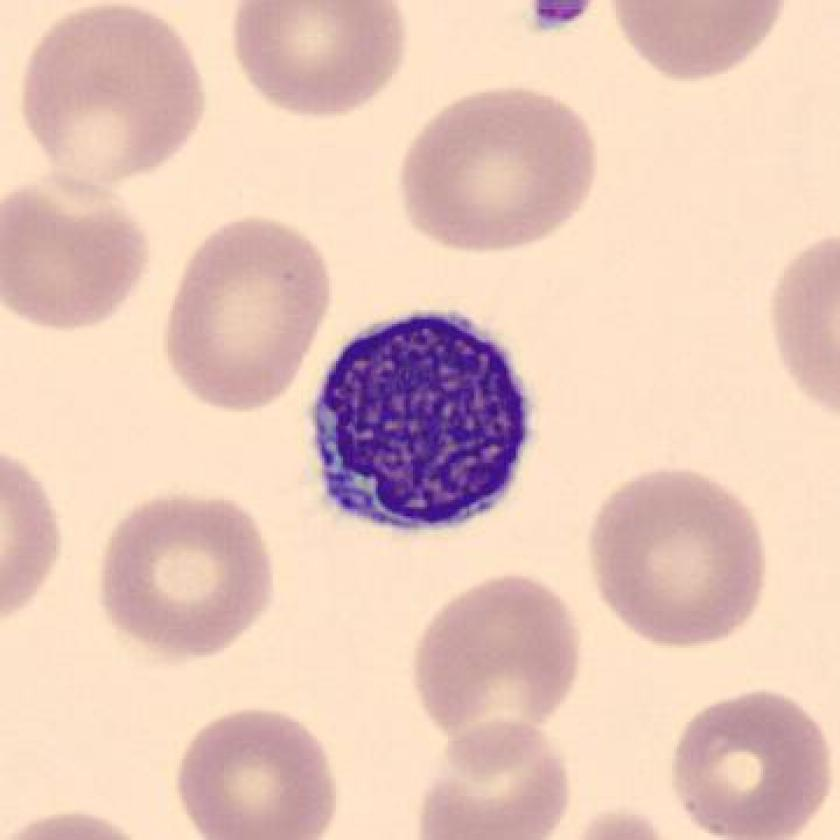lymphocyte: (298, 297, 550, 552)
